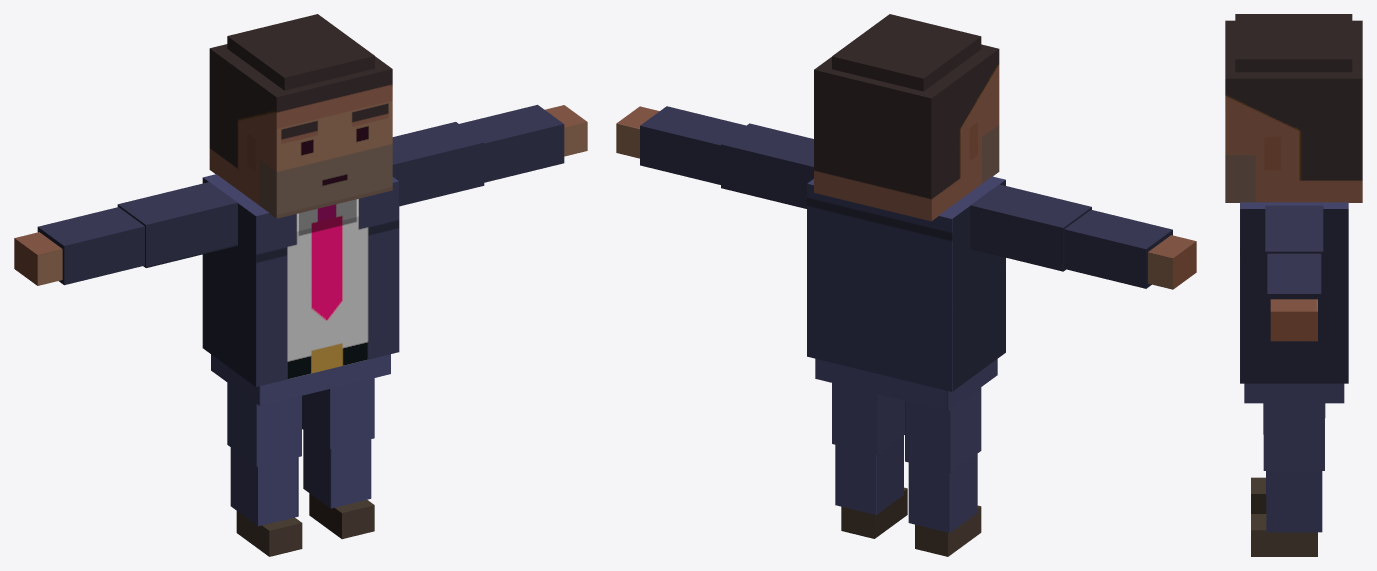
Rendered from man.fbx.
3 renders of one model, left to right at view 1: azimuth 30°, elevation 25°; view 2: azimuth 150°, elevation 25°; view 3: azimuth 270°, elevation 25°, orthographic. The views are drawn at different scales.
Visible parts, largest first — view 1: SK_Character_BusinessMan; view 2: SK_Character_BusinessMan; view 3: SK_Character_BusinessMan.
Boxes of the visible parts, x1,y1,x2,y2 form: SK_Character_BusinessMan: (14, 14, 587, 556); SK_Character_BusinessMan: (616, 14, 1196, 556); SK_Character_BusinessMan: (1225, 14, 1362, 556).
Size of the model in its own units: 337 by 283 by 71.11.
